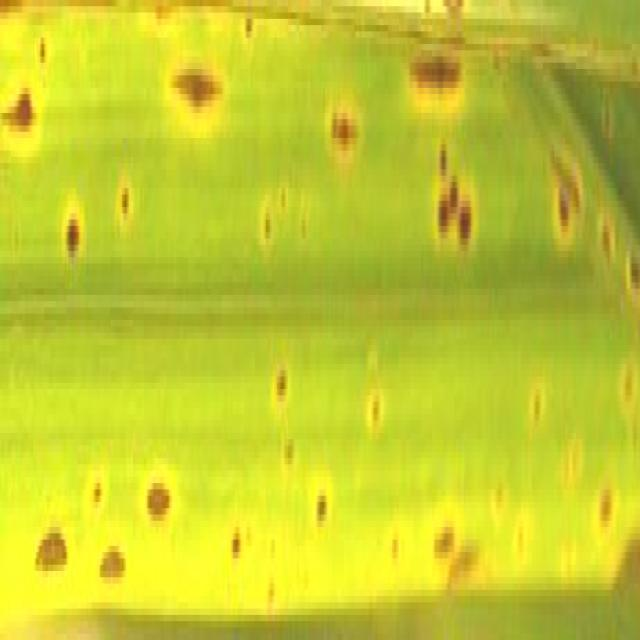Brown_Spot: (418, 138, 481, 295), (0, 32, 50, 195), (166, 38, 232, 144), (27, 515, 70, 640), (554, 88, 580, 288), (408, 44, 466, 125), (592, 420, 624, 564), (320, 112, 376, 188), (137, 446, 176, 552), (381, 464, 409, 608), (597, 214, 633, 314), (258, 163, 282, 295), (424, 521, 449, 634), (360, 364, 389, 458), (256, 534, 281, 640), (115, 132, 132, 276), (64, 201, 86, 307), (270, 346, 291, 446), (486, 458, 508, 546), (530, 332, 546, 452), (97, 540, 130, 596), (228, 508, 244, 590), (314, 471, 329, 558)
